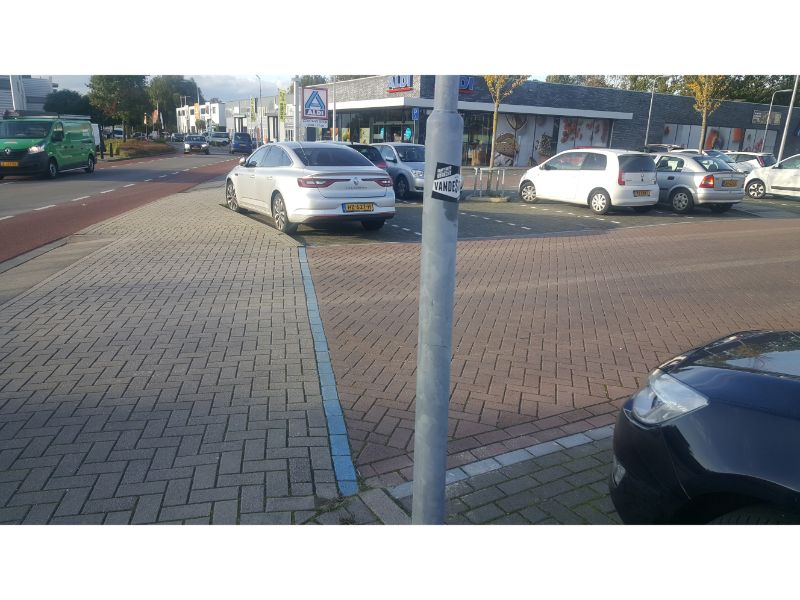kenteken: (342, 200, 375, 211)
